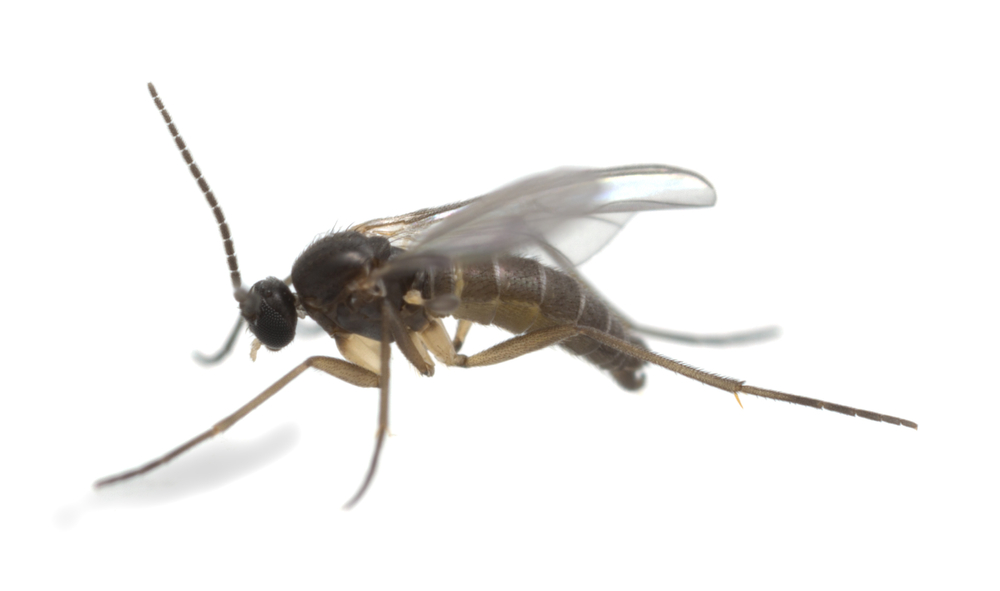Fruit fly: (119, 101, 871, 495)
